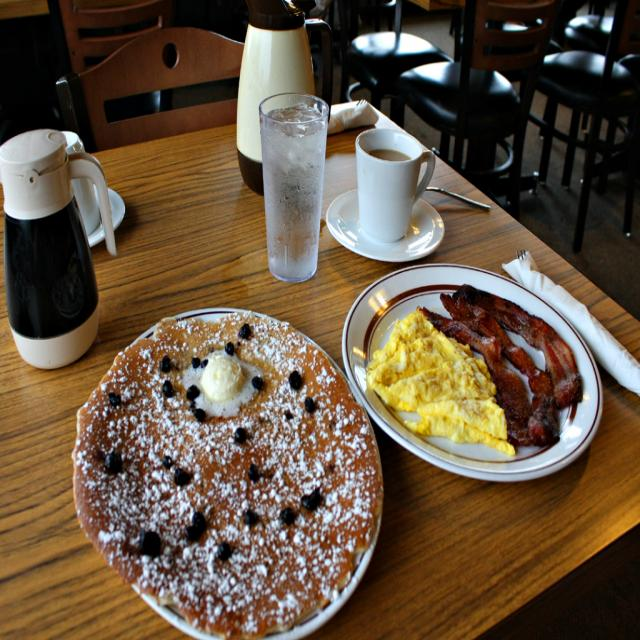Coffee: (347, 122, 424, 240)
Tea: (368, 146, 408, 158)
